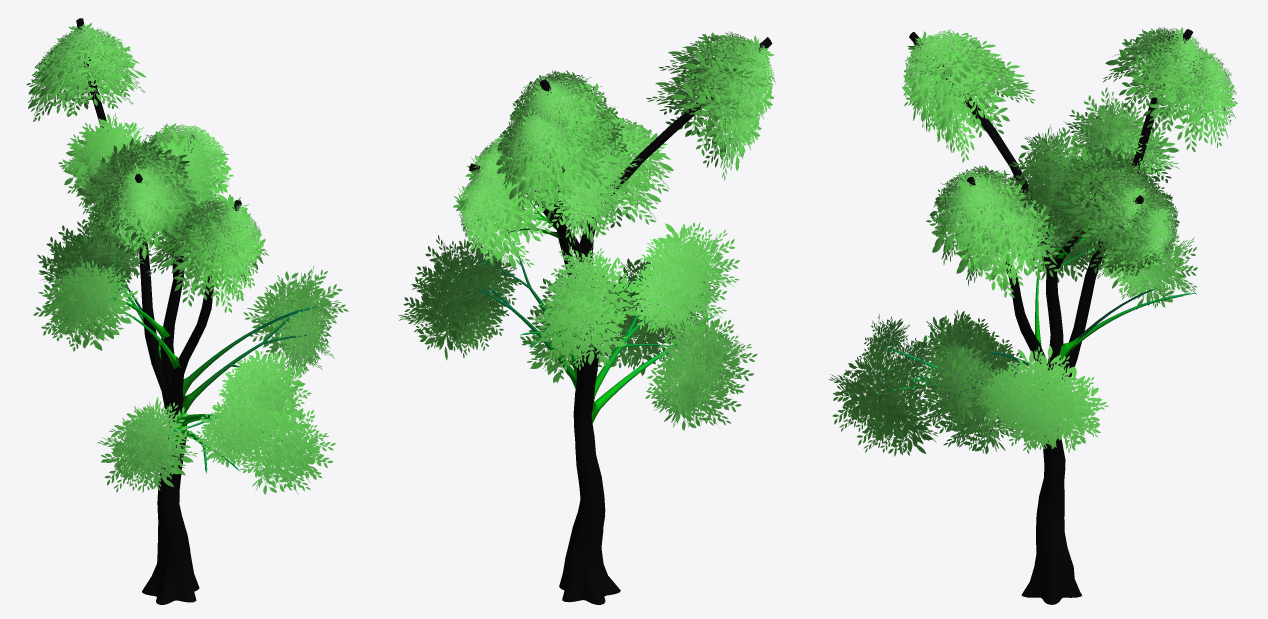
File: SM_Tree.fbx
The picture shows the model from 3 angles, left to right: view 1: azimuth 30°, elevation 25°; view 2: azimuth 150°, elevation 25°; view 3: azimuth 270°, elevation 25°; orthographic projection. The views are drawn at different scales.
Visible parts, largest first — view 1: SM_Tree; view 2: SM_Tree; view 3: SM_Tree.
Boxes of the visible parts, bbox=[...] form: SM_Tree: bbox=[26, 18, 348, 604]; SM_Tree: bbox=[398, 31, 776, 604]; SM_Tree: bbox=[829, 27, 1237, 604].
Size of the model in its own units: 2.46 by 4.18 by 2.93.
